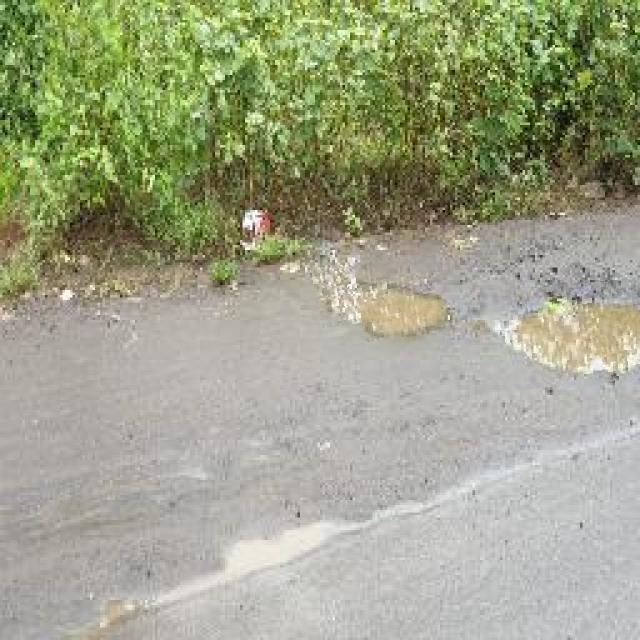puddle: (501, 282, 640, 388), (315, 258, 450, 359)
